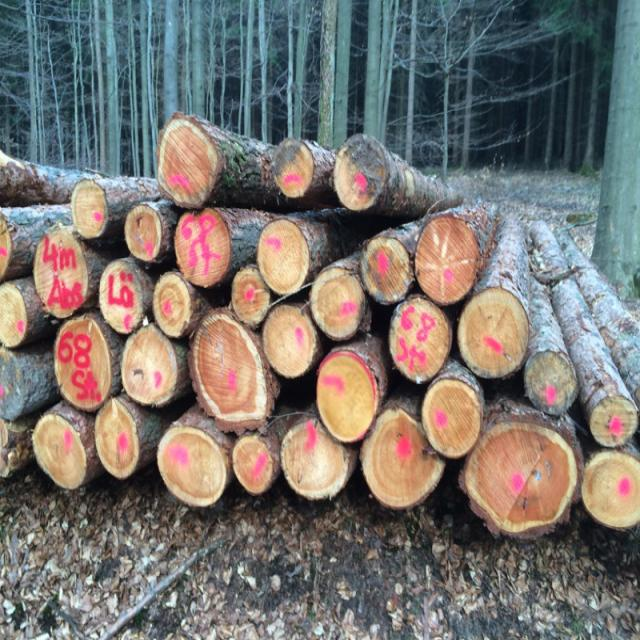wood-log: (460, 415, 579, 538), (188, 306, 280, 429), (358, 400, 444, 509), (154, 111, 226, 206), (458, 286, 531, 377), (280, 417, 353, 502), (317, 348, 383, 442), (159, 423, 231, 508), (53, 316, 114, 412), (414, 216, 478, 306), (389, 299, 451, 385), (34, 231, 92, 319), (420, 374, 481, 457), (122, 324, 182, 406), (583, 448, 640, 528), (176, 210, 233, 288), (334, 132, 388, 214), (29, 410, 85, 488), (260, 305, 318, 379), (311, 268, 369, 342), (258, 221, 314, 297), (92, 395, 138, 478), (358, 237, 412, 306), (101, 263, 148, 336), (526, 350, 579, 414), (270, 134, 316, 201), (230, 432, 276, 497), (586, 395, 637, 448), (155, 269, 194, 336), (125, 204, 164, 262), (232, 268, 272, 324), (70, 181, 108, 238), (0, 348, 26, 420), (0, 282, 27, 348), (0, 212, 12, 278)
